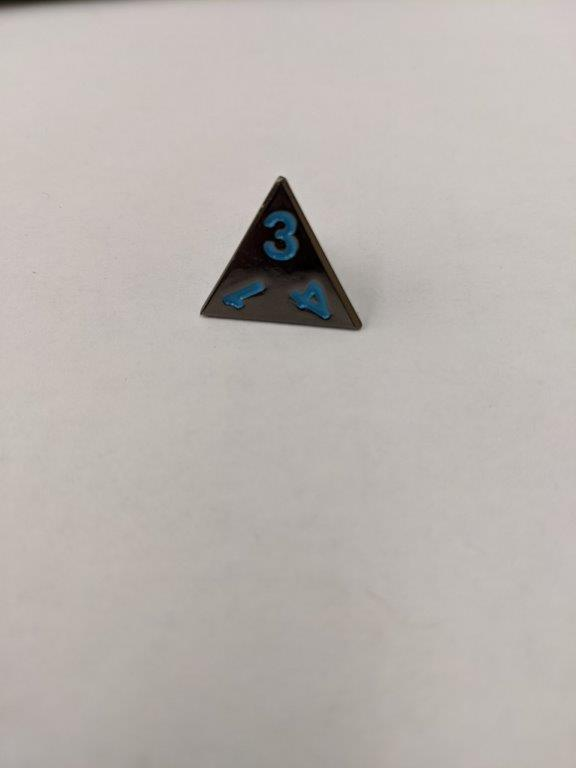d4-3: (197, 172, 369, 339)
